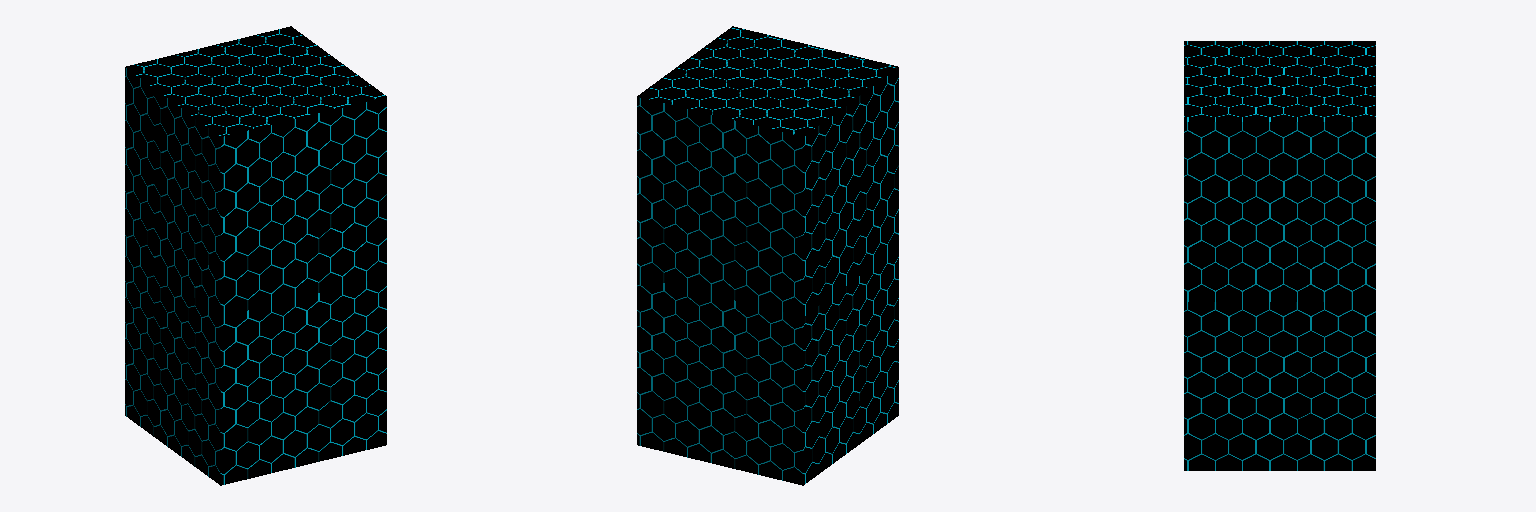
The picture shows the model from 3 angles: view 1: azimuth 30°, elevation 25°; view 2: azimuth 150°, elevation 25°; view 3: azimuth 270°, elevation 25°; orthographic projection.
Visible parts, largest first — view 1: Cube; view 2: Cube; view 3: Cube.
Part boxes in pixels (bbox=[...]): Cube: bbox=[125, 26, 386, 485]; Cube: bbox=[637, 26, 898, 485]; Cube: bbox=[1184, 41, 1375, 470].
Size of the model in its own units: 20 by 40 by 20.
1 materials, 1 textured.